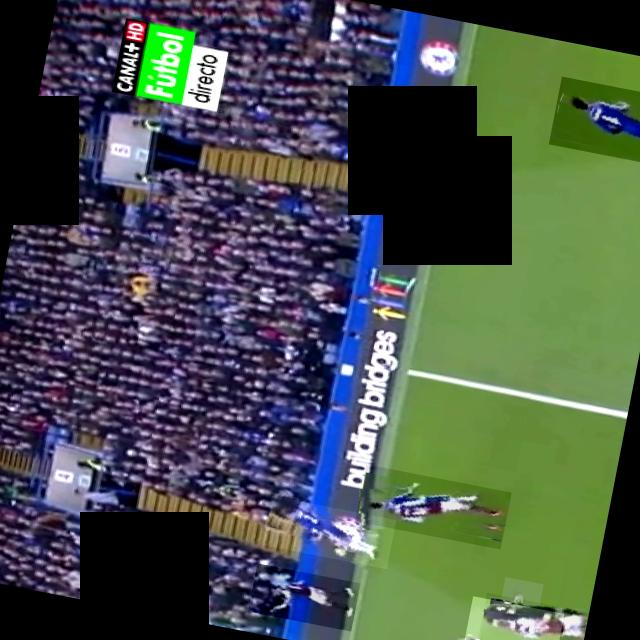referee: (457, 596, 563, 640)
soccer-player: (354, 464, 510, 550), (261, 496, 395, 569), (547, 76, 640, 169), (248, 564, 360, 632), (474, 592, 589, 640)
